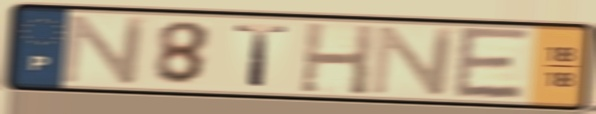8: (151, 19, 214, 87)
E: (452, 24, 534, 101)
H: (296, 19, 379, 98)
N: (59, 13, 152, 86), (368, 24, 461, 97)
T: (231, 22, 293, 90)
